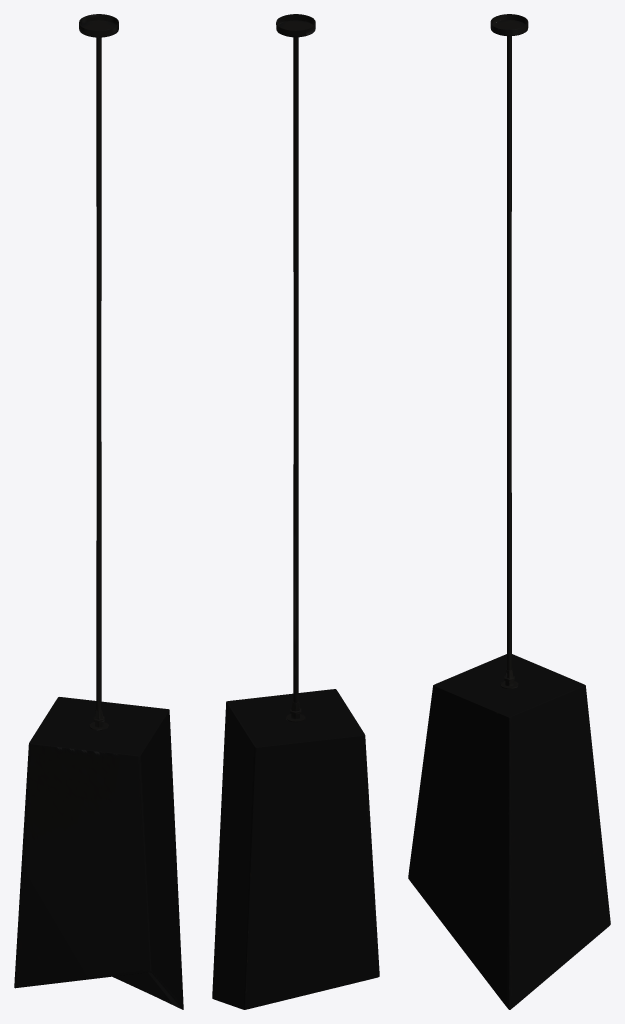
File: lighting_pendant_light_6f93172d-afde-554c-9b1f-47e2c79e9fa6.glb
The picture shows the model from 3 angles, left to right: view 1: azimuth 30°, elevation 25°; view 2: azimuth 150°, elevation 25°; view 3: azimuth 270°, elevation 25°; orthographic projection. The views are drawn at different scales.
Parts seen in each view (by area): view 1: raw_model.obj; view 2: raw_model.obj; view 3: raw_model.obj.
Part boxes in pixels (x1,y1,x2,y2): raw_model.obj: (14,14,183,1009); raw_model.obj: (212,14,379,1009); raw_model.obj: (408,14,610,1009).
Bounding box in the file's own units: 0.1907 × 1.09 × 0.2102.
1 material, 1 textured.
